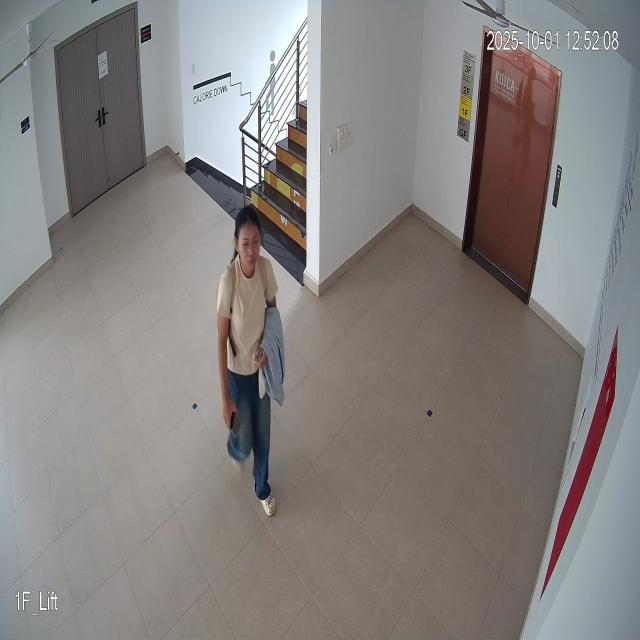face: (230, 202, 265, 281)
